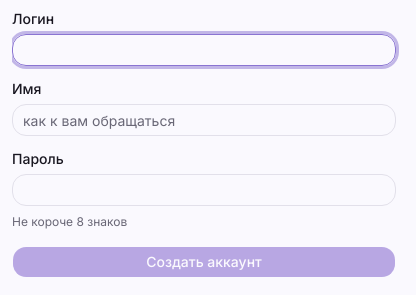
Test: RegisterForm › блокирует кнопку на время отправки
In the field labelled "Логин": (204, 50) [12,34,396,66], type "vadim"
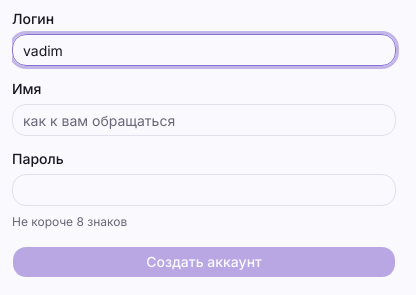
In the password field labelled "Пароль": (204, 190) [12,174,396,206], type "длинный-пароль"
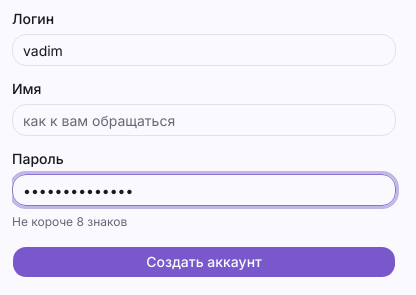
Click the button "Создать аккаунт": click(204, 262) [12,246,396,278]
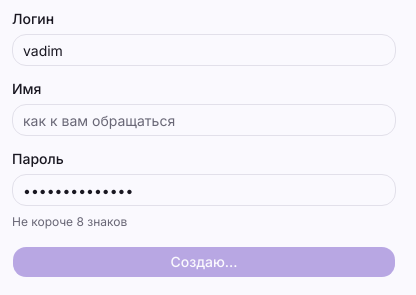
Check: the button "Создаю…" is disabled, box [12,246,396,278]
